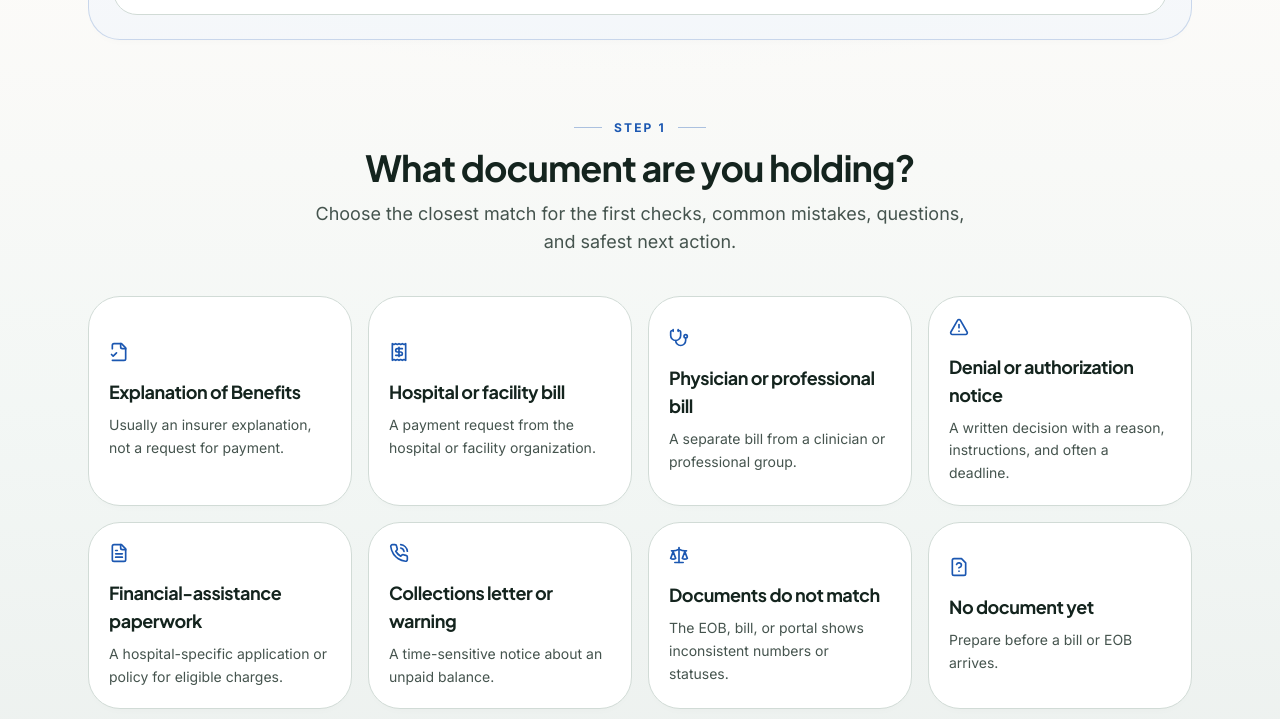
Test: Medical Bill Response System › routes an EOB to a plain-English result without collecting document contents
The image size is (1280, 719).
(page scrolled)
What coordinates should you click on to do the following:
click the button "Explanation of Benefits"
I would click on:
 (220, 401)
Its box is [88,296,352,506].
(page scrolled)
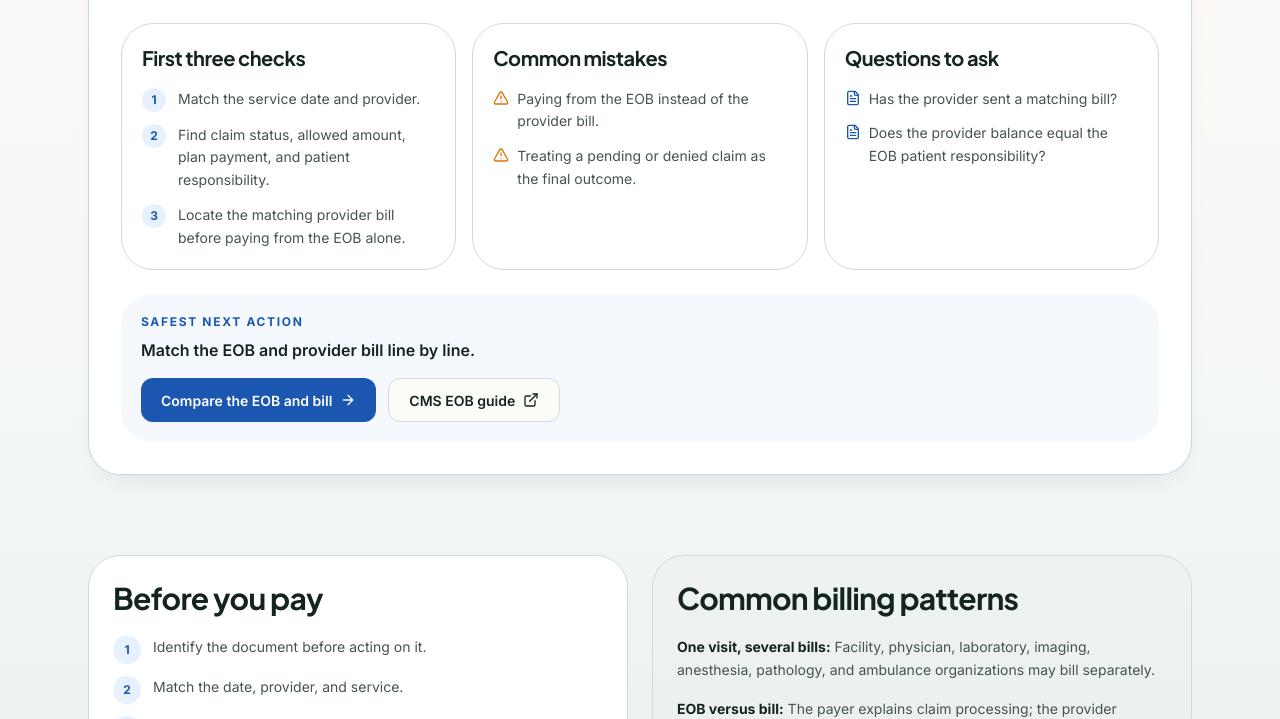
Expected: the heading "First three checks" is shown, [142,44,305,70]
